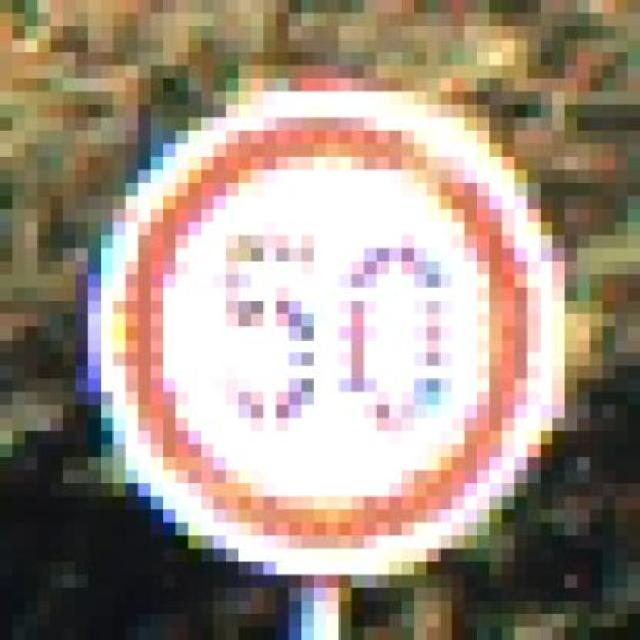50 mph speed limit: (76, 65, 564, 601)
